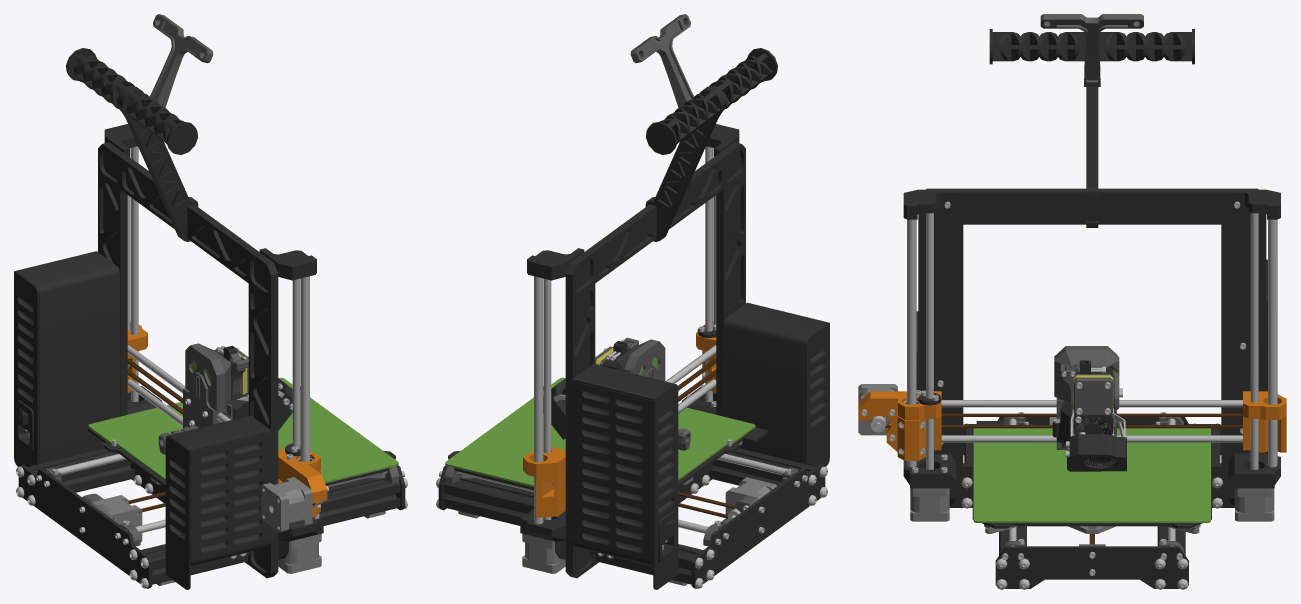
File: OriginalPrusaMK4S.fbx
3 views of the same model, side by side, from view 1: azimuth 30°, elevation 25°; view 2: azimuth 150°, elevation 25°; view 3: azimuth 270°, elevation 25° (orthographic).
Parts seen in each view (by area): view 1: frame, contacting_plate, vertical_axis, extruder, moving_plate; view 2: frame, contacting_plate, vertical_axis, extruder, moving_plate; view 3: frame, contacting_plate, vertical_axis, extruder, moving_plate.
Boxes of the visible parts, x1,y1,x2,y2 form: frame: [14, 14, 407, 589]; contacting_plate: [88, 377, 398, 483]; vertical_axis: [127, 321, 328, 532]; extruder: [158, 343, 292, 454]; moving_plate: [87, 386, 395, 487]; frame: [436, 14, 829, 589]; contacting_plate: [445, 377, 755, 486]; vertical_axis: [523, 321, 716, 517]; extruder: [543, 337, 690, 450]; moving_plate: [448, 386, 768, 489]; frame: [903, 14, 1280, 589]; contacting_plate: [973, 428, 1210, 522]; vertical_axis: [858, 384, 1286, 460]; extruder: [1052, 346, 1126, 471]; moving_plate: [972, 421, 1211, 533].
Size of the model in its own units: 45.47 by 57.85 by 34.77.
